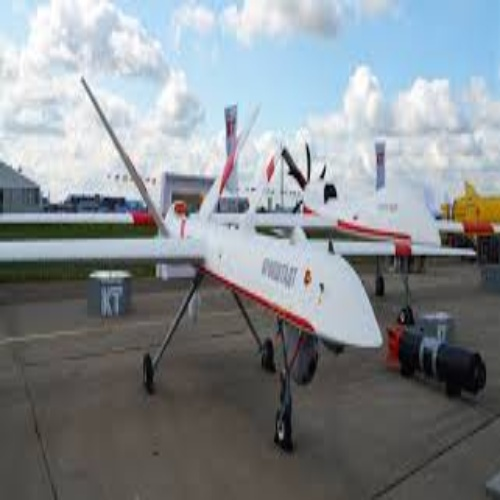uav367: (6, 78, 382, 454)
